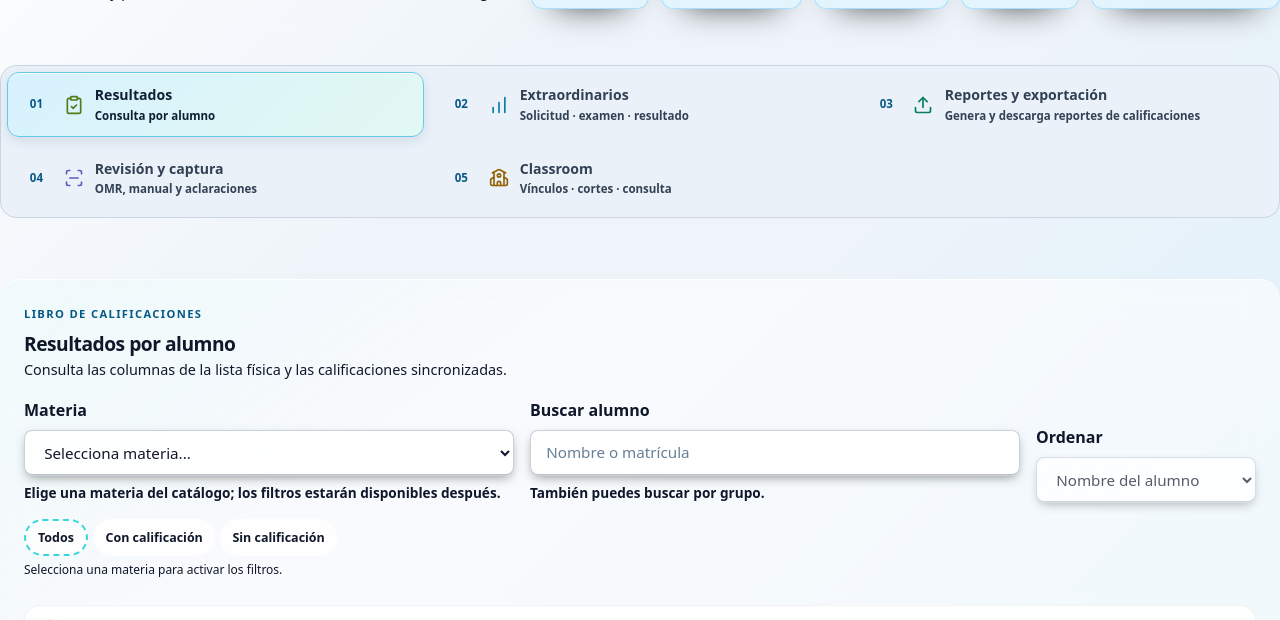
Test: ruta Classroom desde Calificaciones › anuncia la carga de periodos sin confundirla con un catálogo vacío
The image size is (1280, 620).
Click the button "Reportes y exportación": (1065,105) [856,72,1273,137]
(page scrolled)
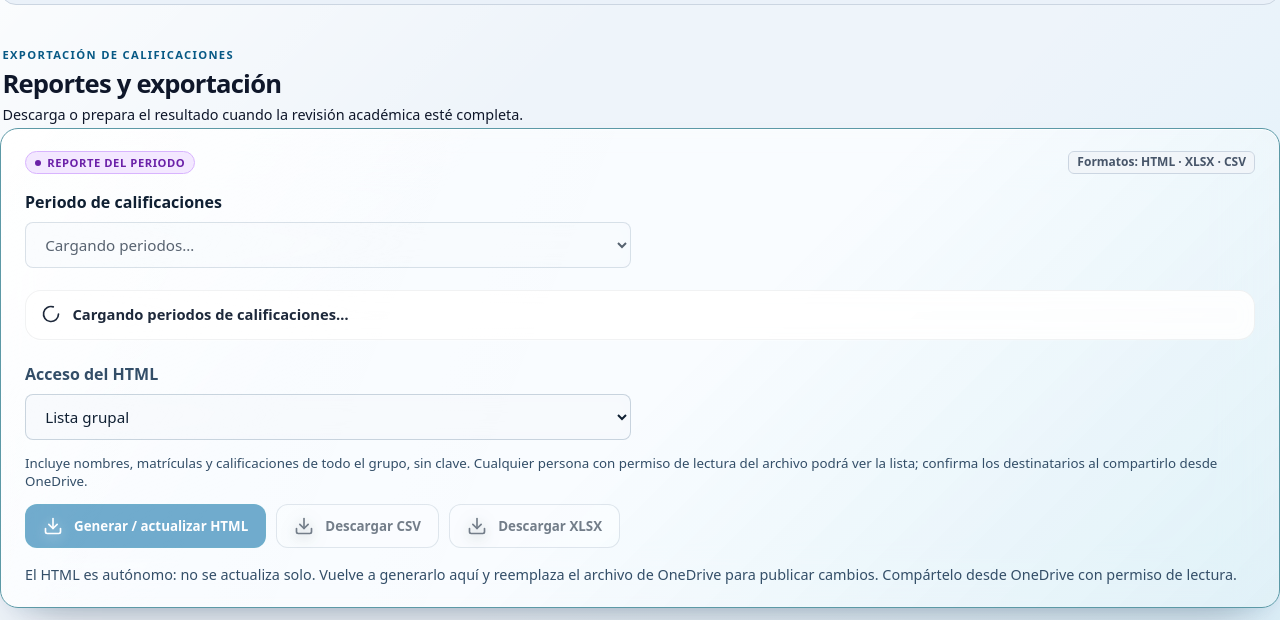
Now the message reads "Cargando periodos de calificaciones…", box [72,304,349,324]
Now the button "Generar / actualizar HTML" is disabled, box [25,504,266,548]
